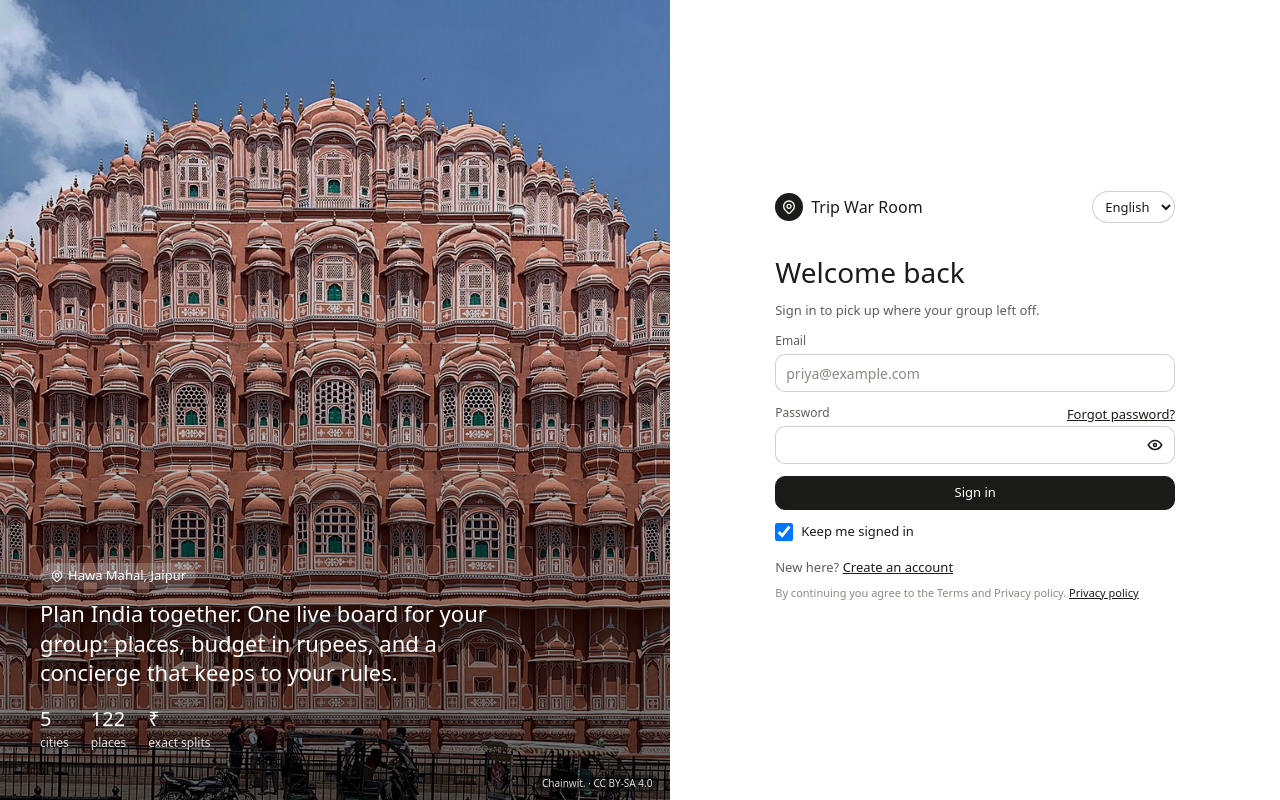
Test: sign in › shows only the methods the server offers, and checks the form before sending
Expected: the heading "Welcome back" is shown, [775, 252, 965, 290]
Click the button "Sign in" at (975, 493), box [775, 476, 1175, 510]
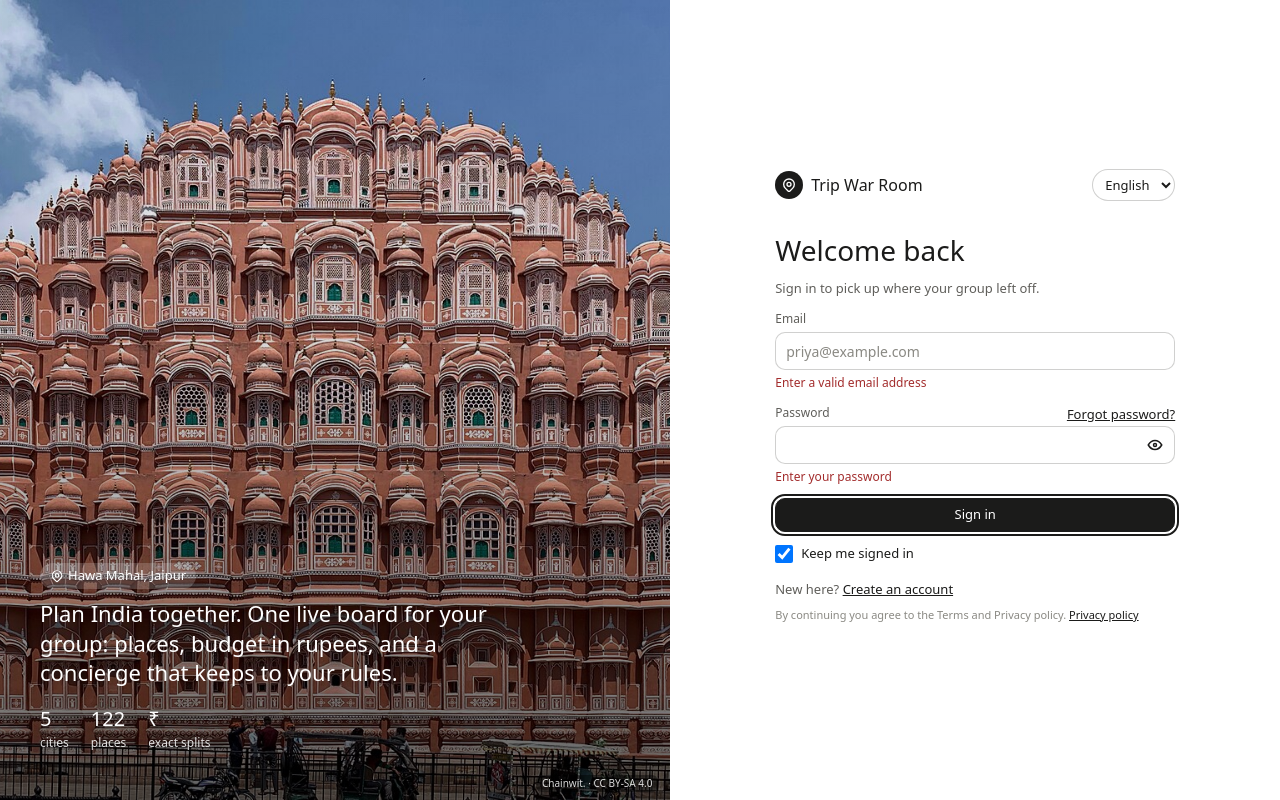
Expected: the text "Enter a valid email address" is shown, [775, 374, 926, 391]
Expected: the text "Enter your password" is shown, [775, 468, 892, 485]
Type "priya@example.test" into the field labelled "Email" at (975, 351), box [775, 332, 1175, 370]
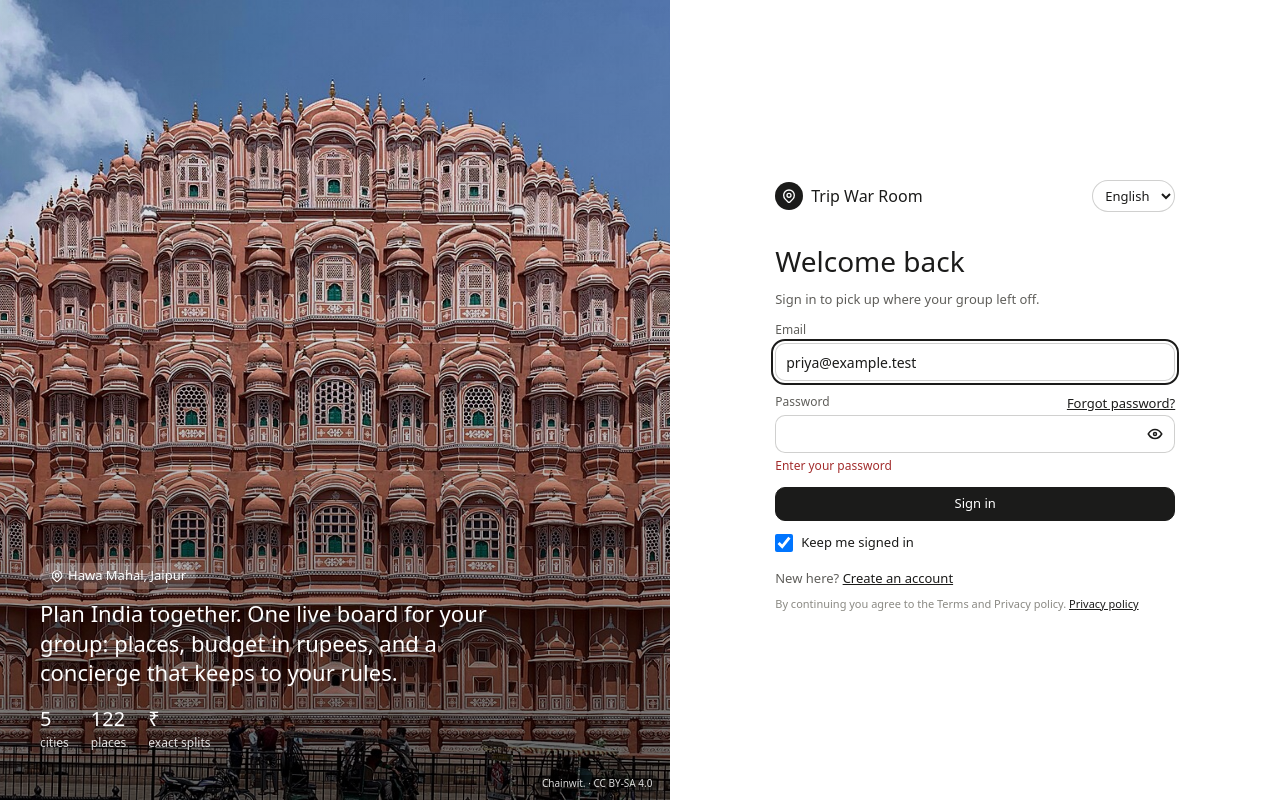
Type "wrong password" into the password field labelled "Password" at (975, 434), box [775, 415, 1175, 453]
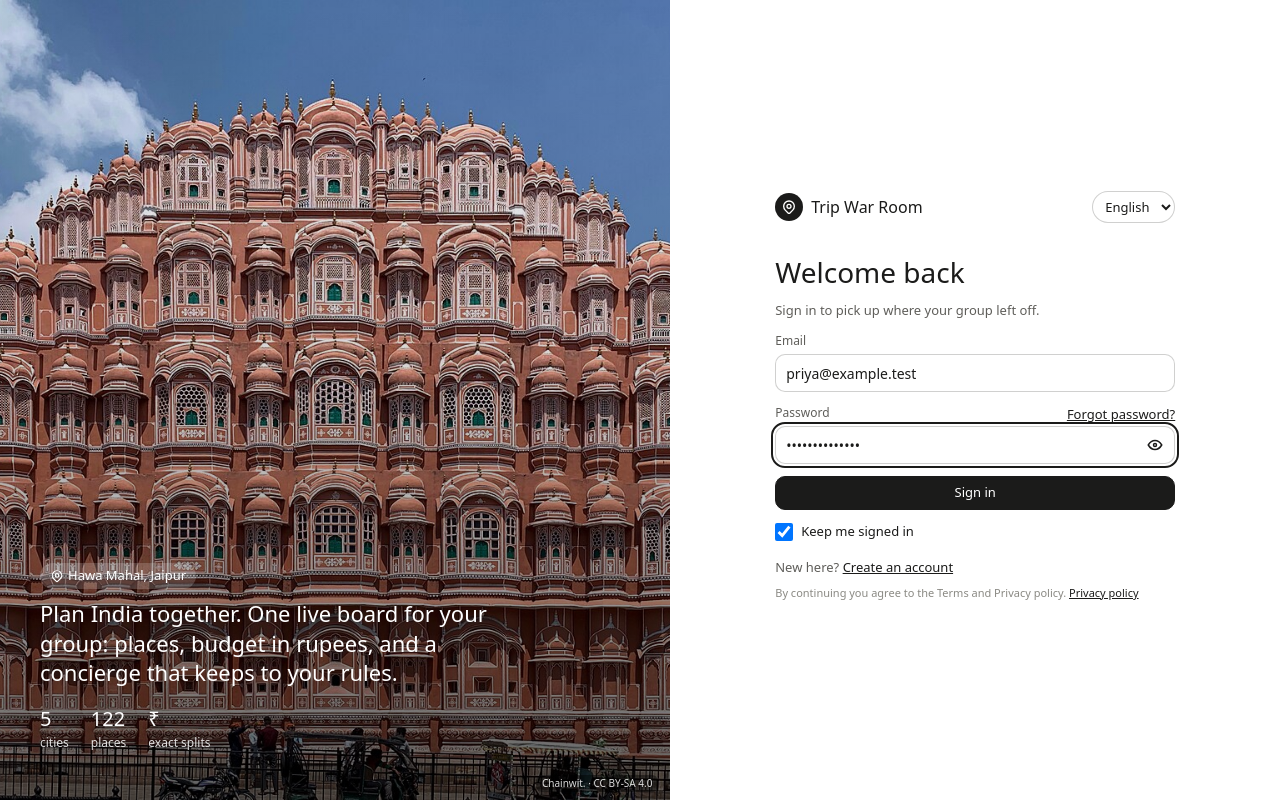
Click the button named "Show password" at (1155, 445), box [1139, 431, 1171, 459]
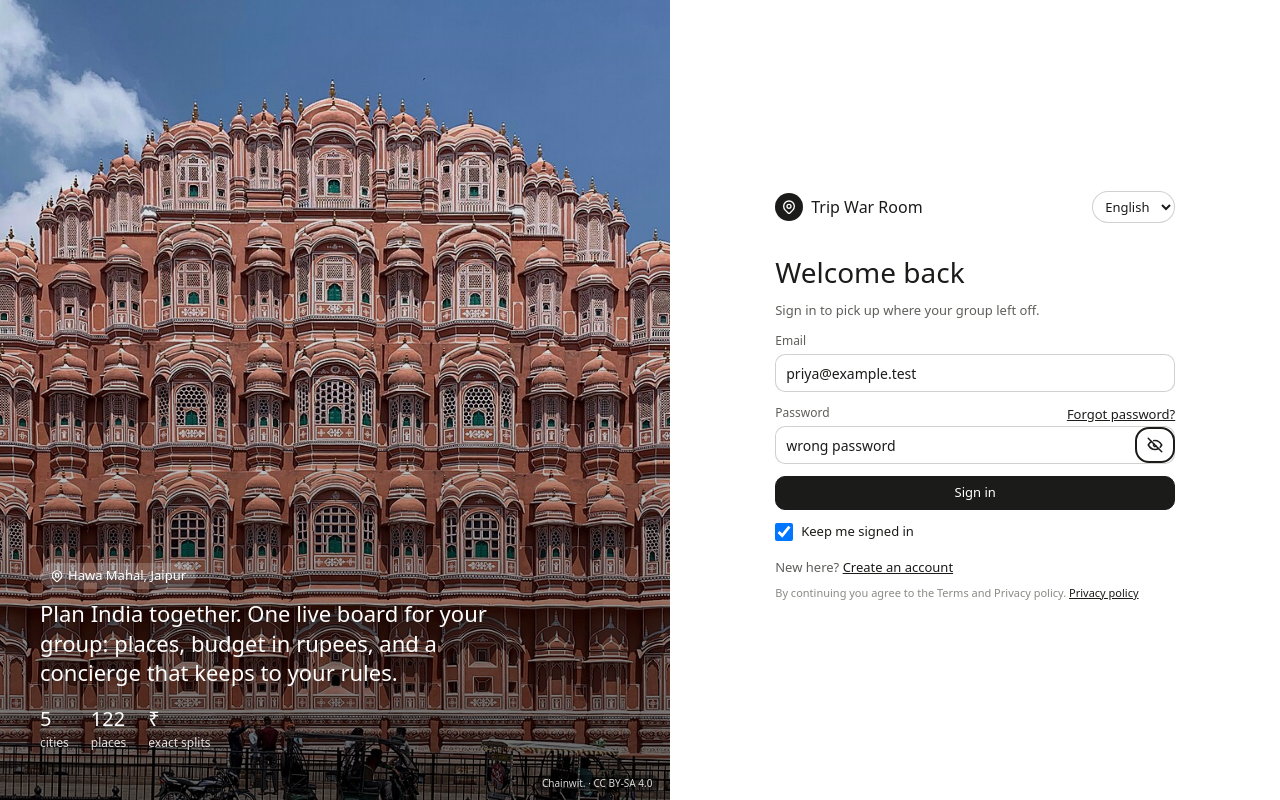
Expected: the field labelled "Password" shows its text, [775, 426, 1175, 464]
Click the checkbox labelled "Keep me signed in" at (784, 532), box [775, 523, 793, 541]
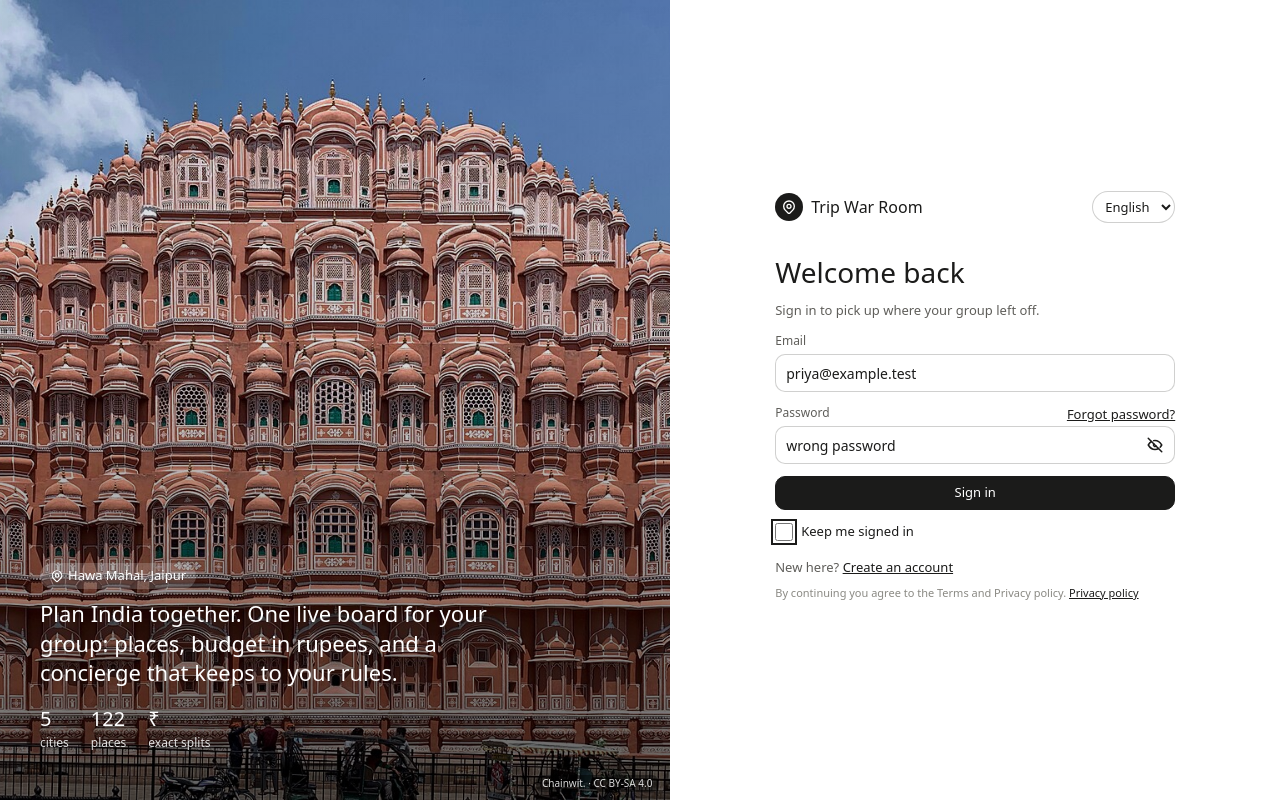
Click the button "Sign in" at (975, 493), box [775, 476, 1175, 510]
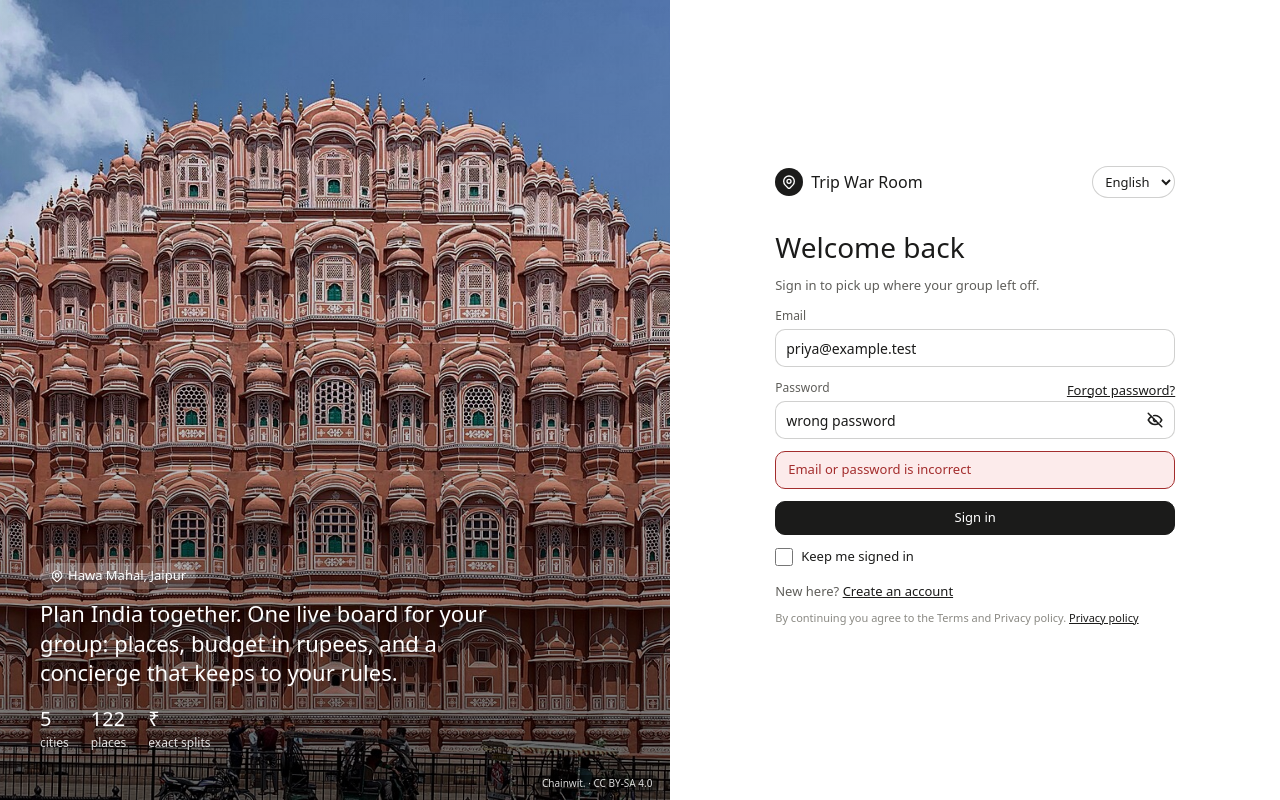
Expected: the text "Email or password is incorrect" is shown, [775, 451, 1175, 489]
